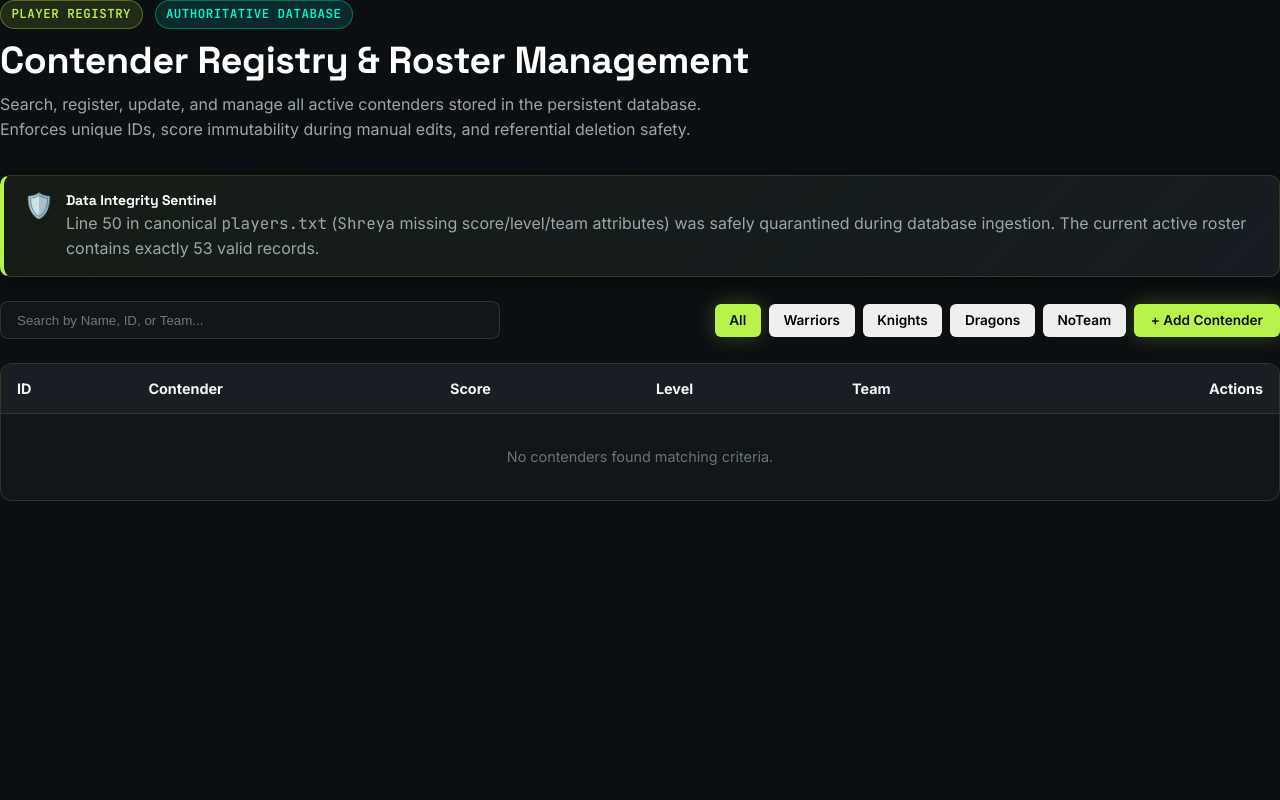
PlayerRegistryView Component › opens and closes Add Contender modal
Click the button "+ Add Contender" at (1207, 320), box [1134,304,1279,337]
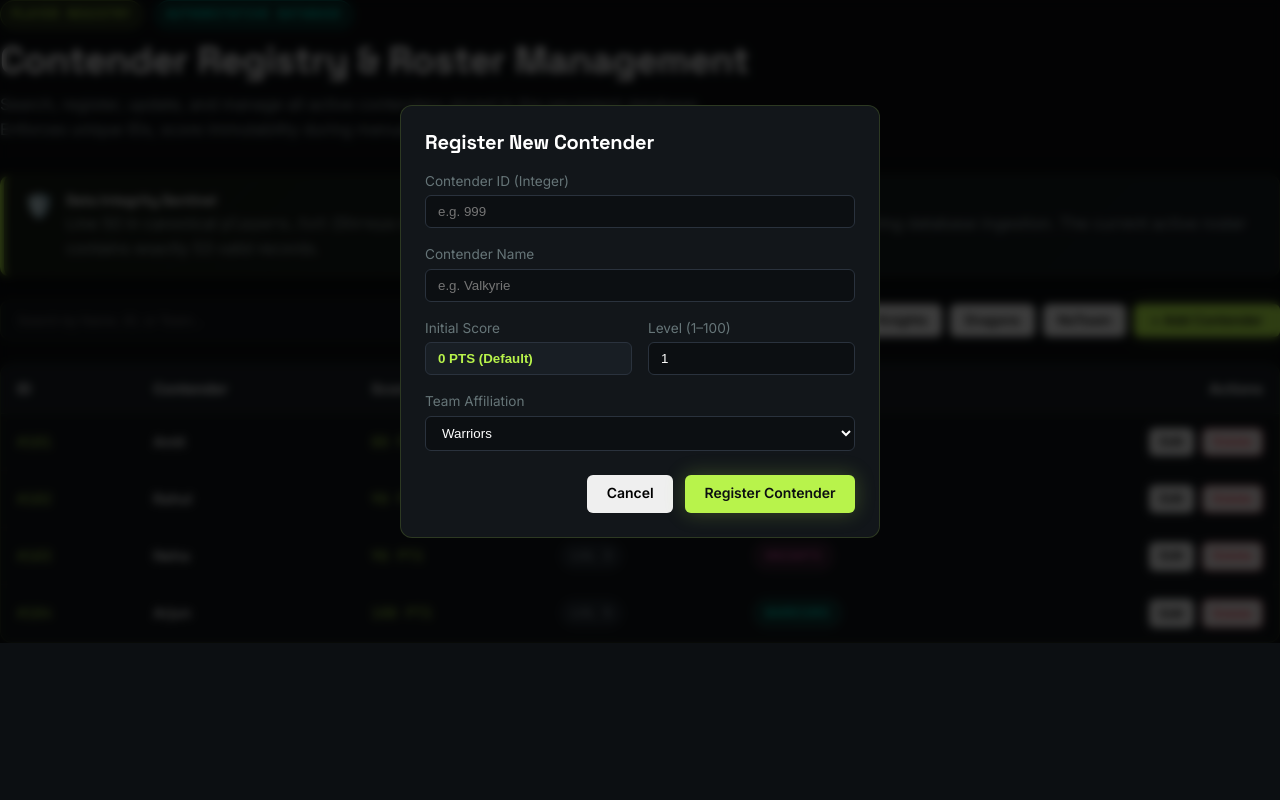
Check: the heading "Register New Contender" is shown, box [425,129,654,155]
Click the button "Cancel" at (630, 494), box [587,475,673,513]
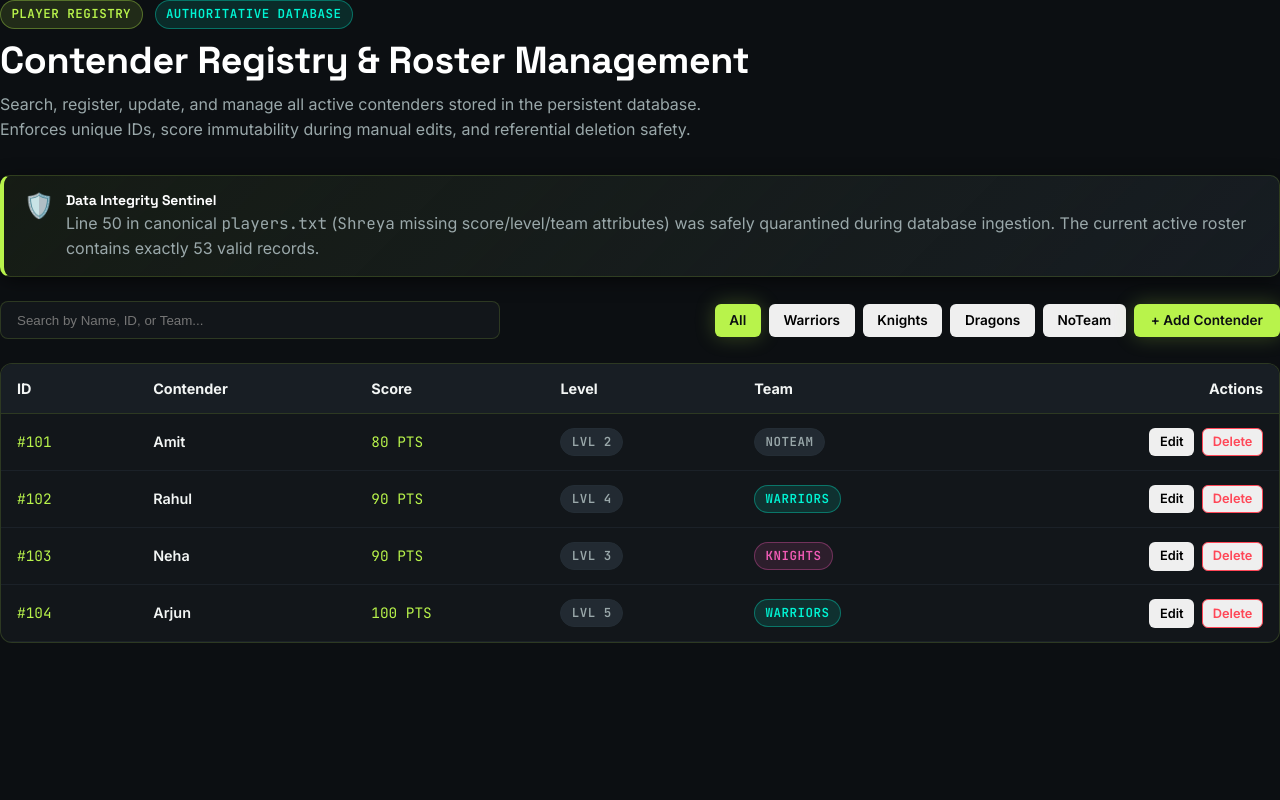
Check: the heading "Register New Contender" is gone
